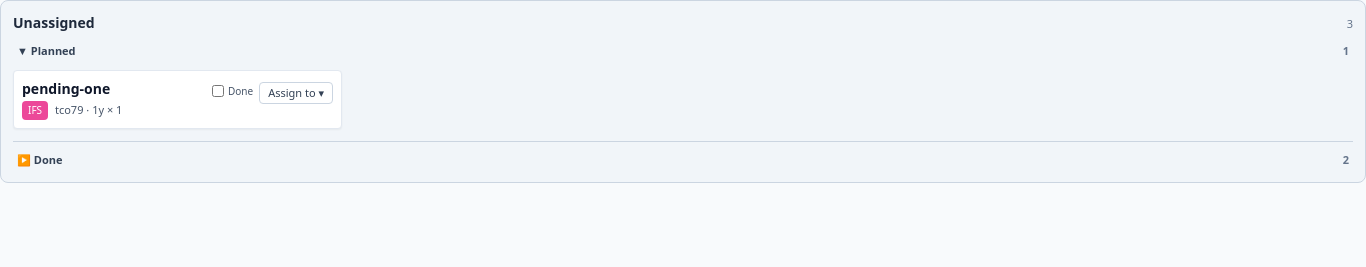
Scenario: UnassignedTray › separates completed sims into a collapsable Done section
Click the button with test id "tray-toggle-done" at (40, 159), box [13,150,1353,170]
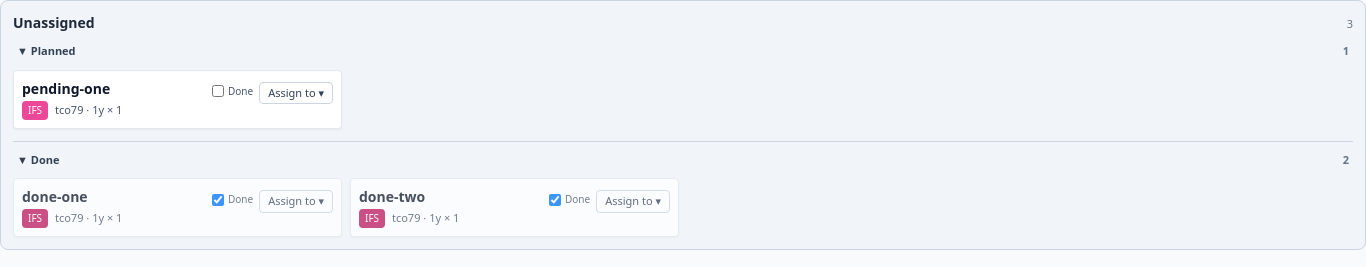
Now the element with test id "tray-done-section" is shown, box [13,178,679,237]
Click the button with test id "tray-toggle-done" at (38, 159), box [13,150,1353,170]
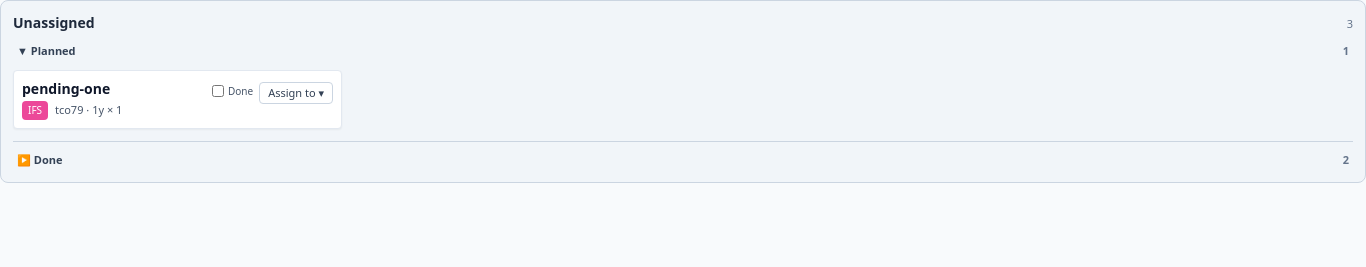
Now the element with test id "tray-done-section" is gone
